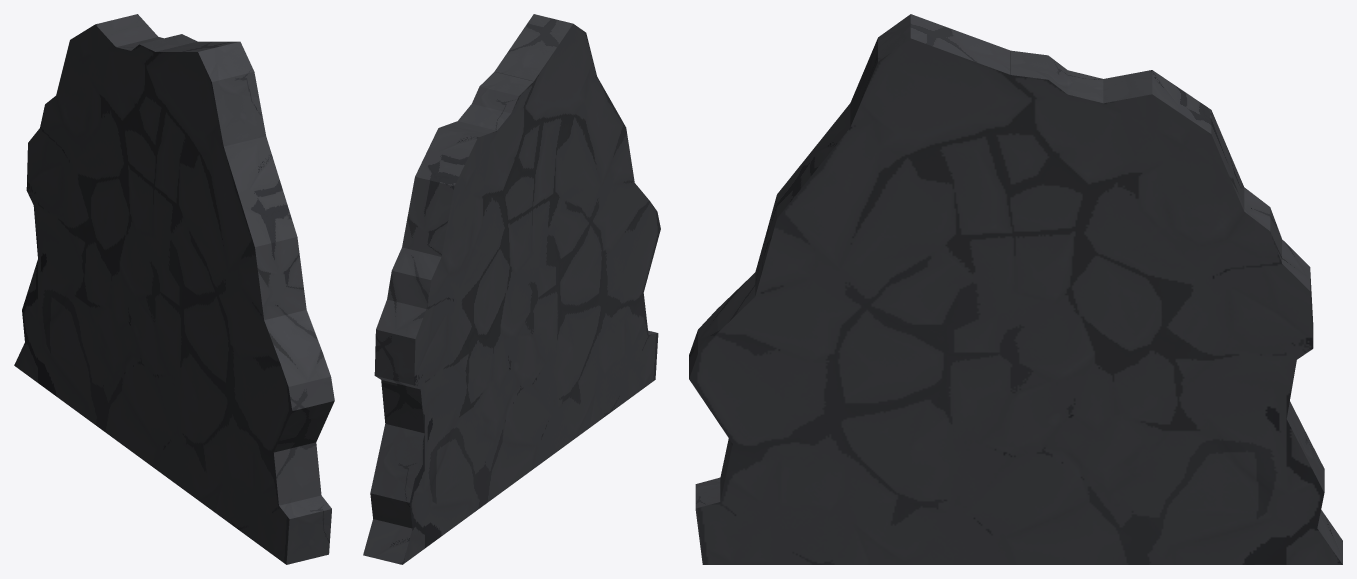
Rendered from Wall_Rock_PorteMur.FBX.
3 renders of one model, left to right at view 1: azimuth 30°, elevation 25°; view 2: azimuth 150°, elevation 25°; view 3: azimuth 270°, elevation 25°, orthographic. The views are drawn at different scales.
Parts seen in each view (by area): view 1: Object002; view 2: Object002; view 3: Object002.
Boxes of the visible parts, x1,y1,x2,y2 form: Object002: [14, 14, 334, 564]; Object002: [363, 14, 660, 564]; Object002: [689, 14, 1342, 564].
Size of the model in its own units: 26.35 by 265 by 299.
Materials: 1 (1 with a texture image).
